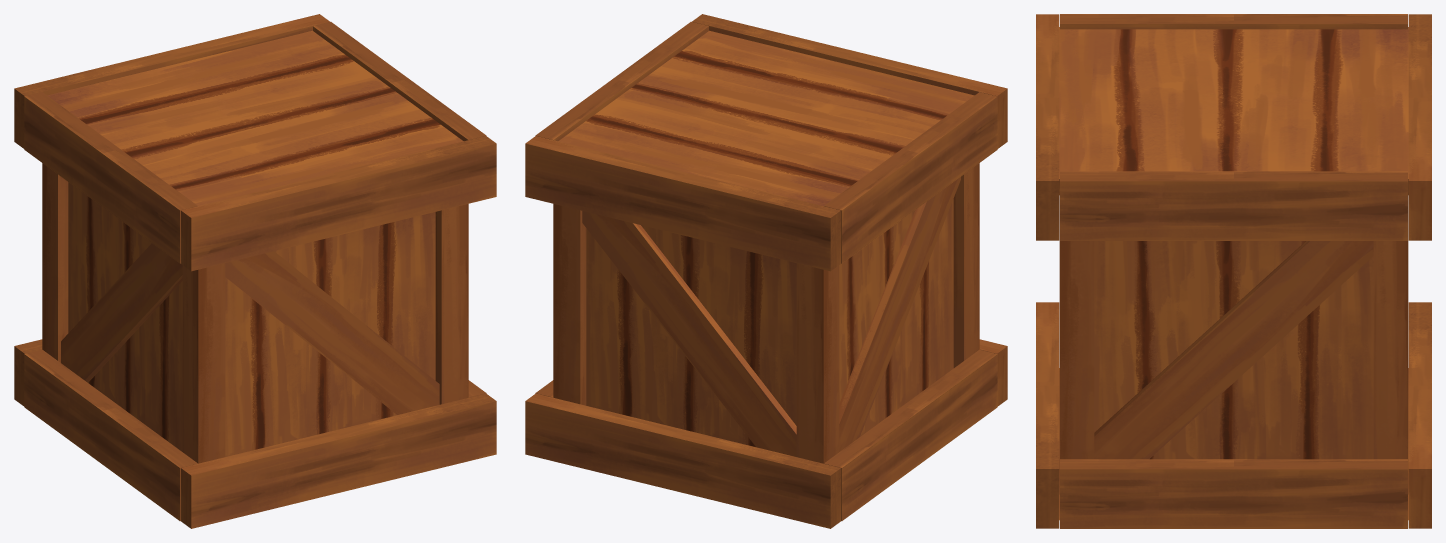
Rendered from Box_MDL.fbx.
The picture shows the model from 3 angles, left to right: view 1: azimuth 30°, elevation 25°; view 2: azimuth 150°, elevation 25°; view 3: azimuth 270°, elevation 25°; orthographic projection. The views are drawn at different scales.
Parts seen in each view (by area): view 1: Box_MSH; view 2: Box_MSH; view 3: Box_MSH.
Boxes of the visible parts, left/top/right/bottom form: Box_MSH: left=14, top=14, right=496, bottom=528; Box_MSH: left=525, top=14, right=1007, bottom=528; Box_MSH: left=1036, top=14, right=1431, bottom=528.
Size of the model in its own units: 98.64 by 95.56 by 98.64.
1 material, 1 textured.
